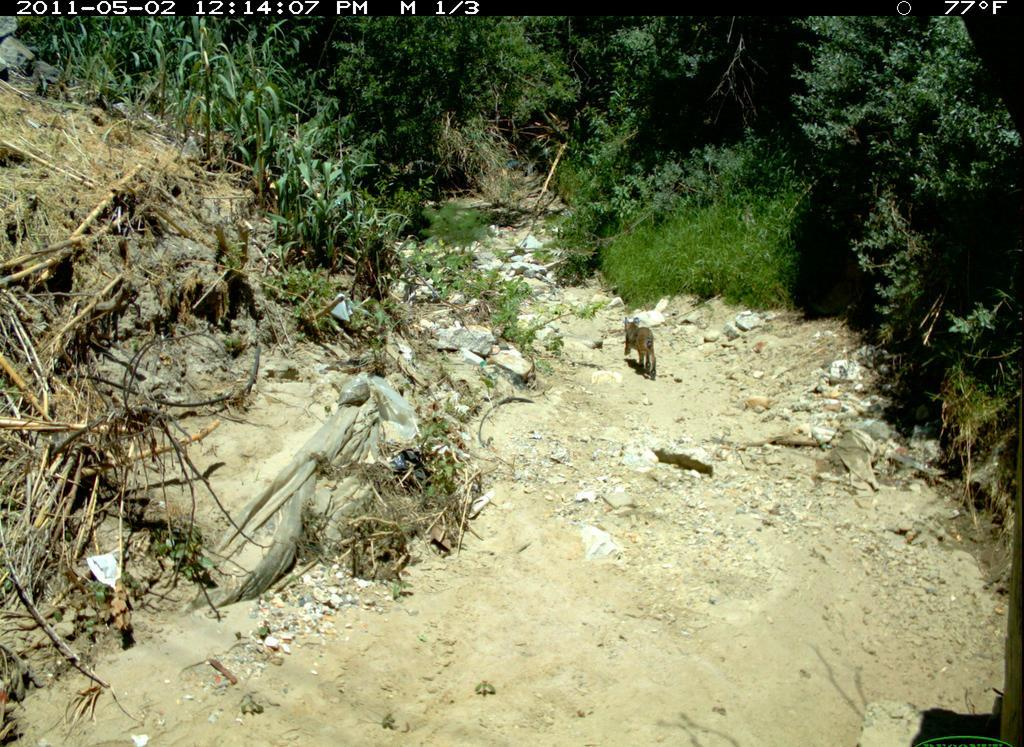bobcat: (617, 310, 661, 382)
